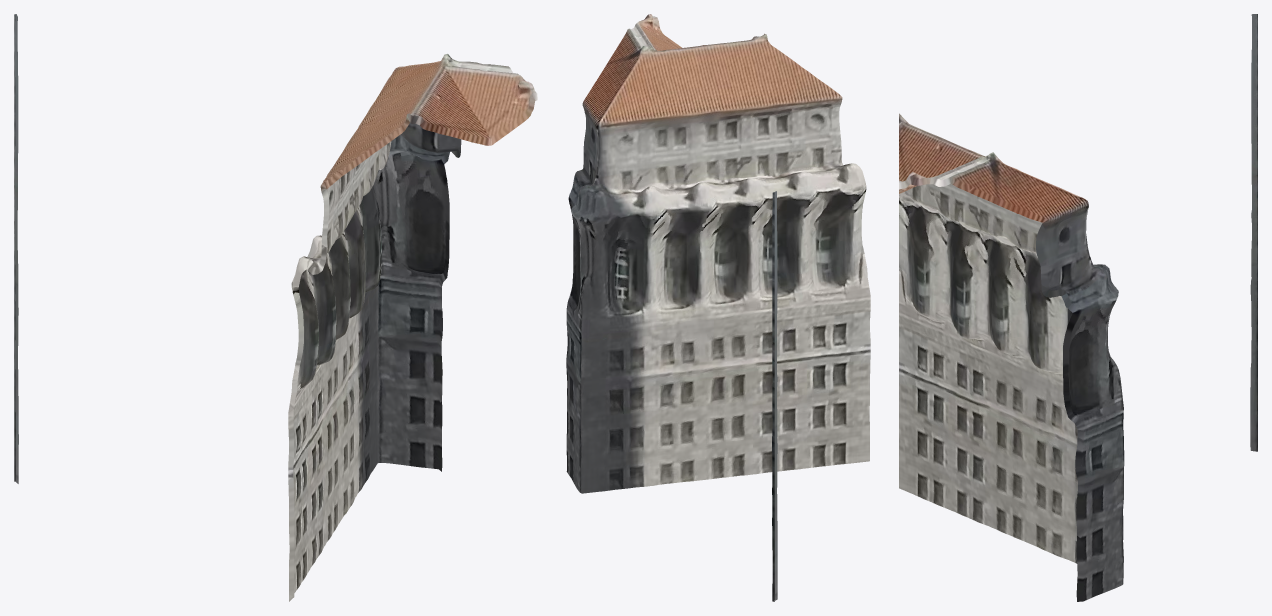
File: z20-167780-405232-h1-yup-uvflip-v3-world.glb
3 views of the same model, side by side, from view 1: azimuth 30°, elevation 25°; view 2: azimuth 150°, elevation 25°; view 3: azimuth 270°, elevation 25° (orthographic). The views are drawn at different scales.
Bounding box in the file's own units: 30.24 × 40.76 × 30.32.
1 material, 1 textured.
